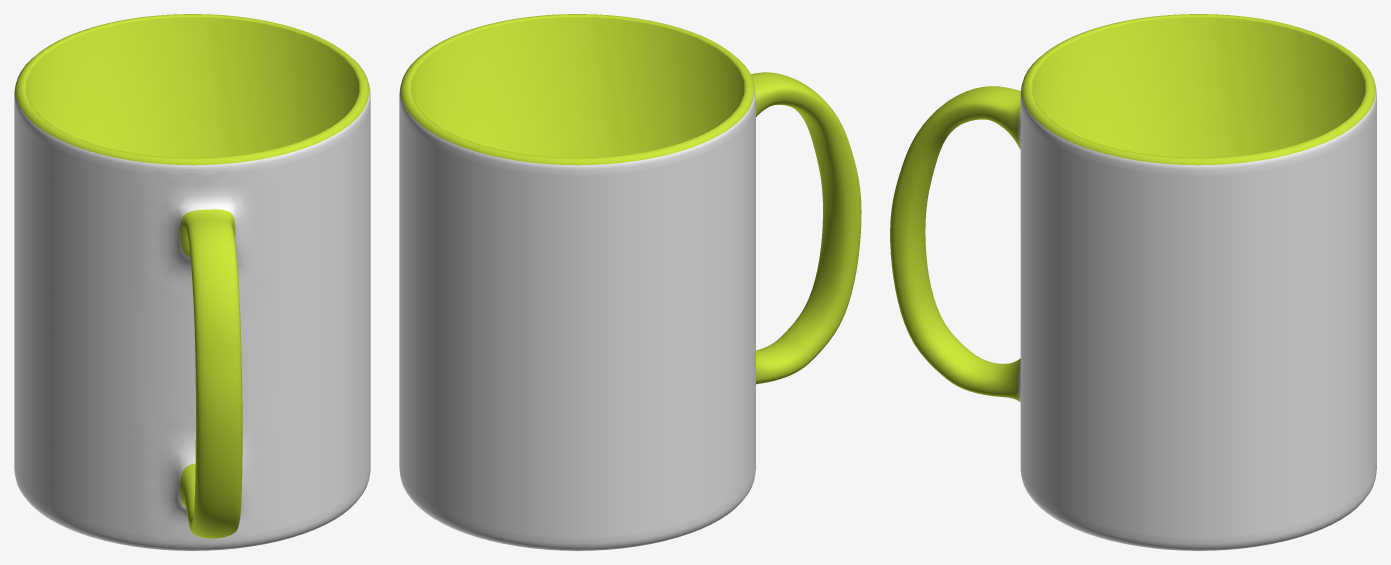
The model's file is caneca.gltf.
3 renders of one model, left to right at view 1: azimuth 30°, elevation 25°; view 2: azimuth 150°, elevation 25°; view 3: azimuth 270°, elevation 25°, orthographic.
Visible parts, largest first — view 1: Cylinder001; view 2: Cylinder001; view 3: Cylinder001.
Part boxes in pixels (x1,y1,x2,y2): Cylinder001: (14, 14, 370, 550); Cylinder001: (399, 14, 861, 550); Cylinder001: (890, 14, 1376, 550).
Size of the model in its own units: 2.02 by 2.46 by 2.77.
